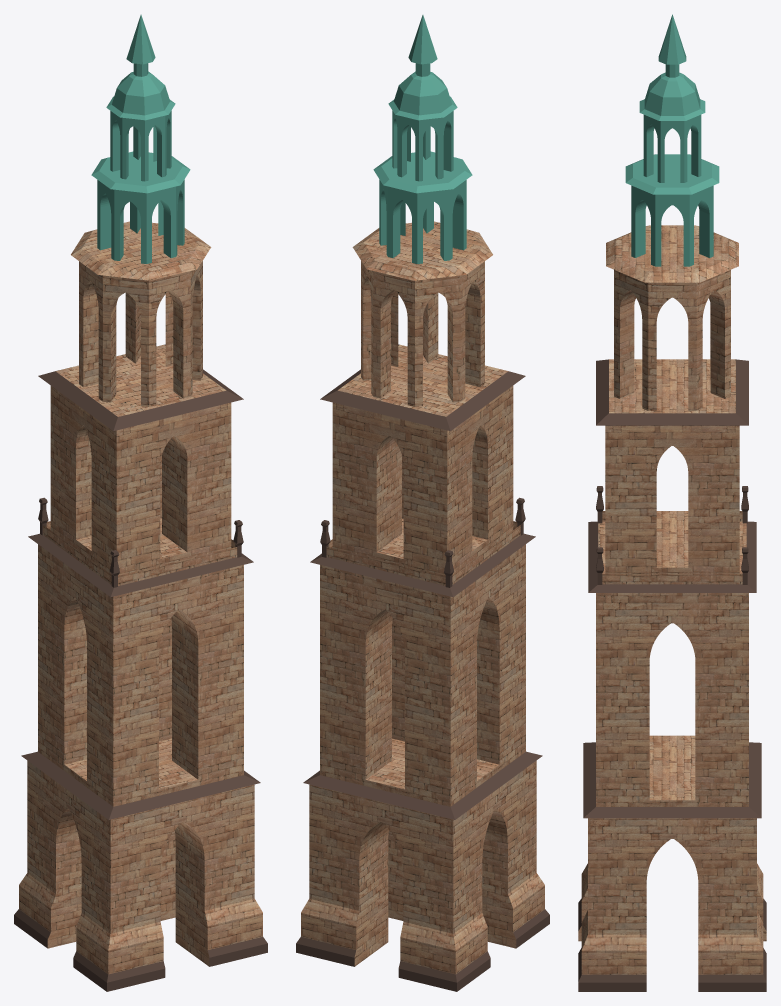
The model's file is martini_toren.glb.
The picture shows the model from 3 angles, left to right: view 1: azimuth 30°, elevation 25°; view 2: azimuth 150°, elevation 25°; view 3: azimuth 270°, elevation 25°; orthographic projection.
Visible parts, largest first — view 1: Cube; view 2: Cube; view 3: Cube.
Boxes of the visible parts, x1,y1,x2,y2 form: Cube: (14,14,267,991); Cube: (296,15,549,991); Cube: (578,14,766,991).
Bounding box in the file's own units: 3.38 × 18.57 × 3.38.
3 materials, 1 textured.
